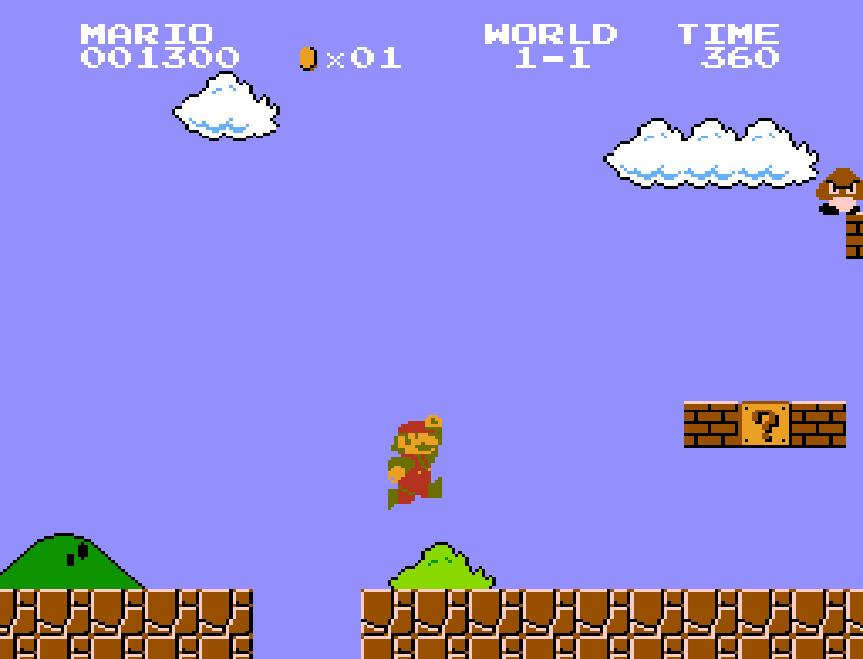big_mario: (386, 414, 444, 512)
